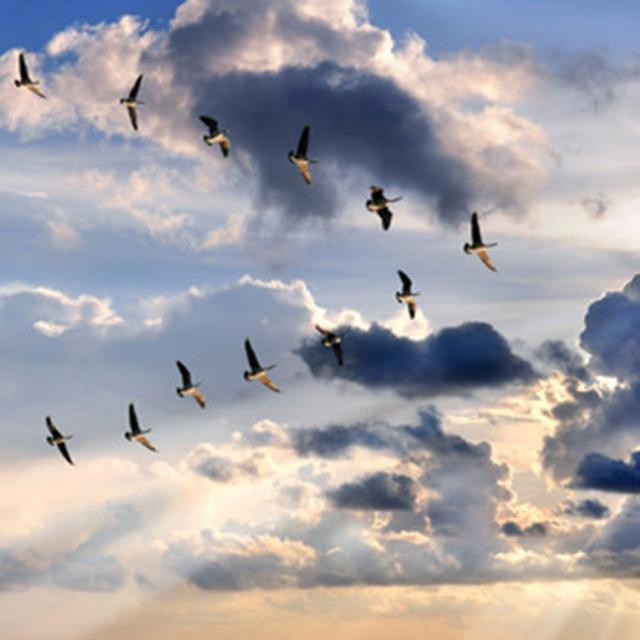bird: (463, 211, 501, 273), (243, 337, 280, 396), (366, 187, 404, 234), (126, 402, 160, 454), (288, 125, 316, 188), (387, 268, 422, 318), (12, 51, 46, 102), (174, 360, 208, 410), (311, 323, 347, 368), (199, 114, 234, 160), (45, 415, 77, 464), (118, 76, 145, 129)
